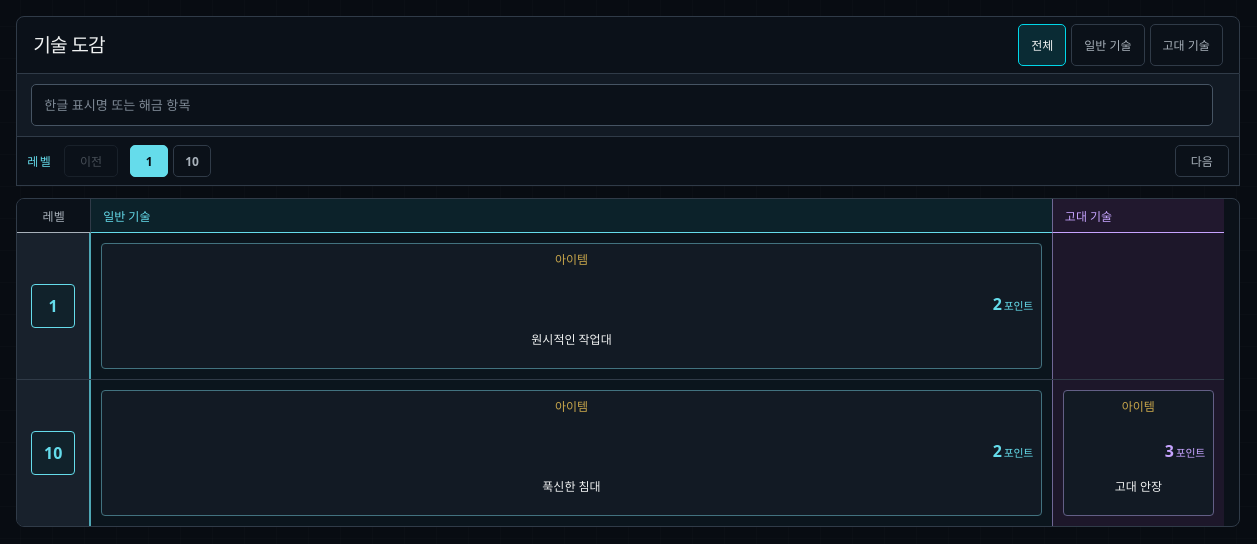
TechnologyBoard › moves to the nearest available level when a lane changes
Click the button "고대 기술" at (1186, 45), box top-left (1150, 24), bottom-right (1223, 66)
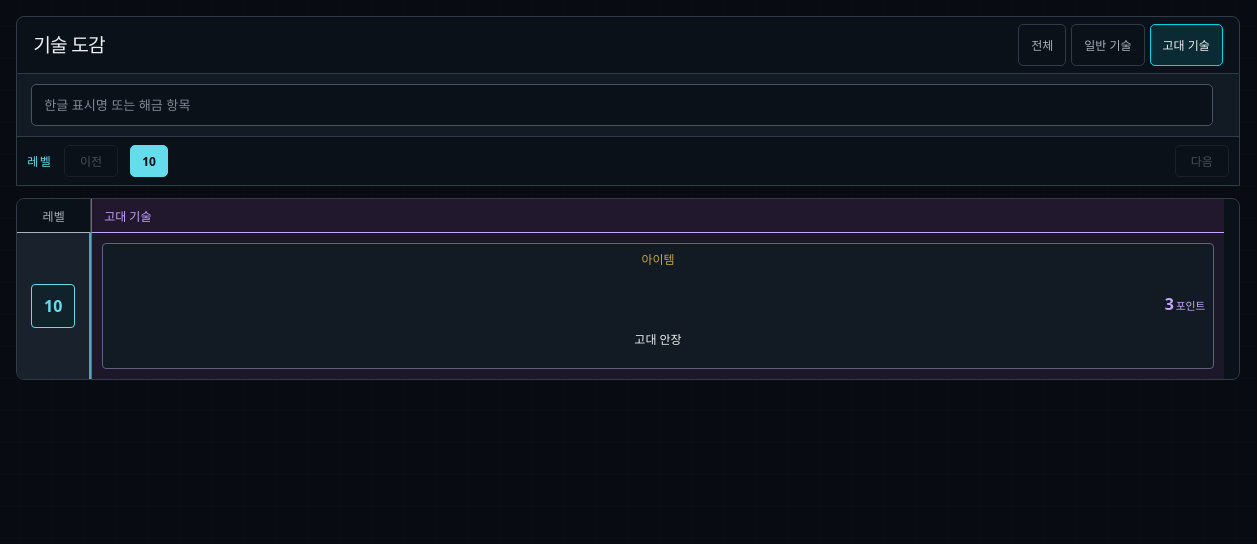
Now the element with id "technology-level-10" is shown, box top-left (17, 233), bottom-right (1224, 379)
Now the element with id "technology-level-1" is gone
